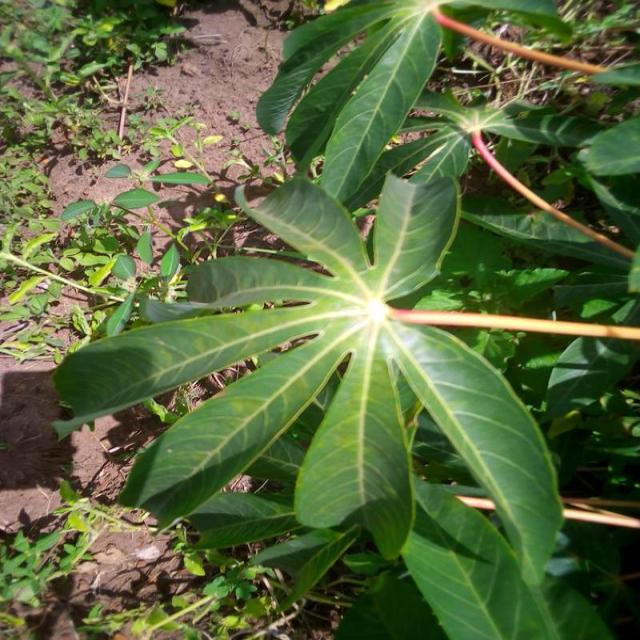cassava leaf: (52, 167, 567, 594)
